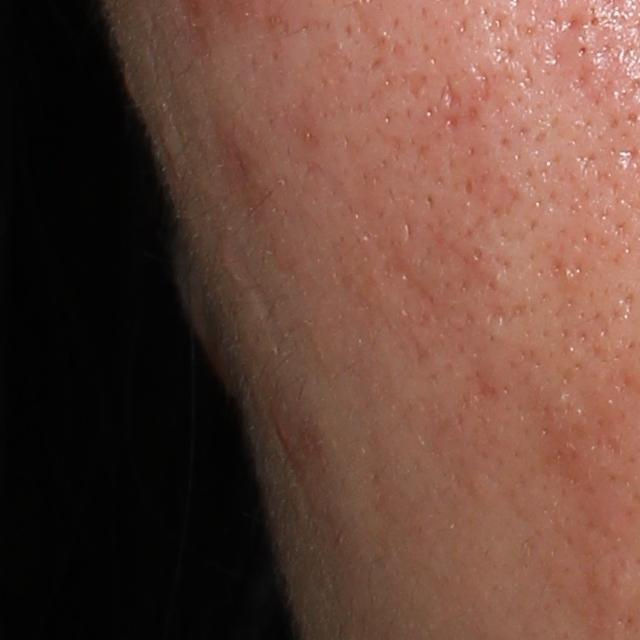atrophic_scar: (442, 75, 463, 108)
papule: (275, 420, 292, 445)
